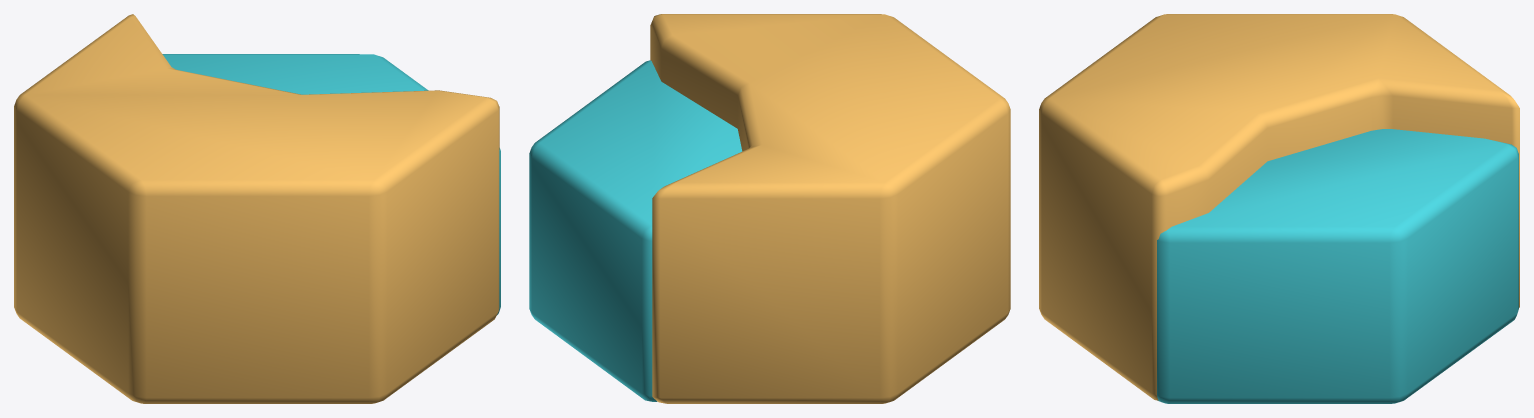
The model's file is sand_water1.glb.
3 views of the same model, side by side, from view 1: azimuth 30°, elevation 25°; view 2: azimuth 150°, elevation 25°; view 3: azimuth 270°, elevation 25° (orthographic).
Visible parts, largest first — view 1: sand_water1; view 2: sand_water1; view 3: sand_water1.
Part boxes in pixels (box(x1,y1,x2,y2)): sand_water1: box(14, 14, 500, 403); sand_water1: box(529, 14, 1010, 403); sand_water1: box(1039, 14, 1519, 403).
Size of the model in its own units: 6.93 by 4 by 7.89.
